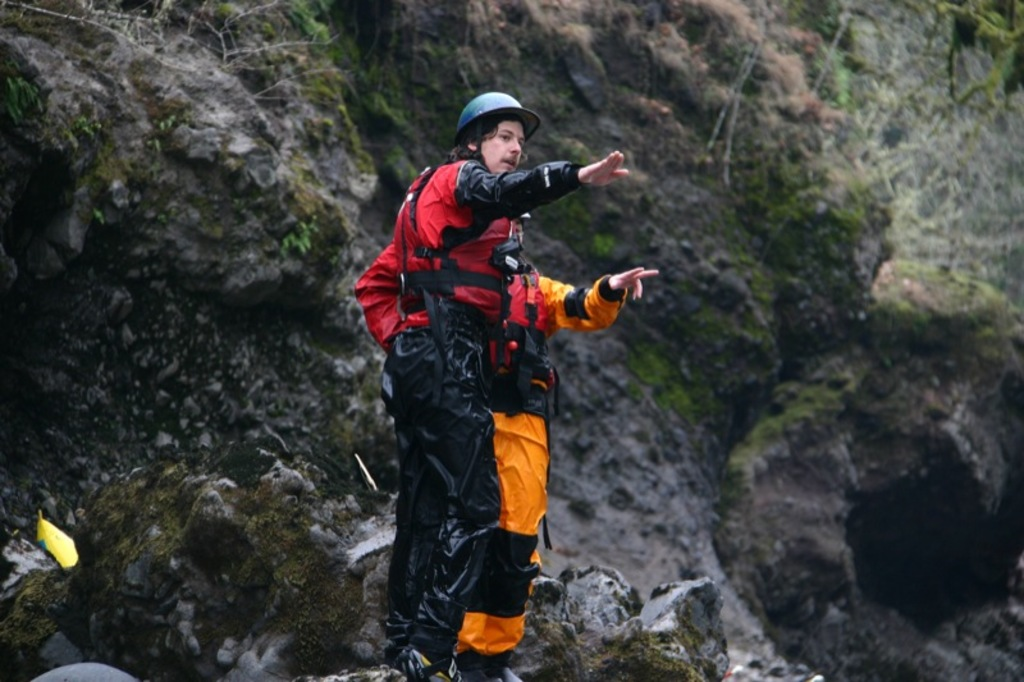Person: (353, 92, 628, 682), (454, 213, 661, 682)
